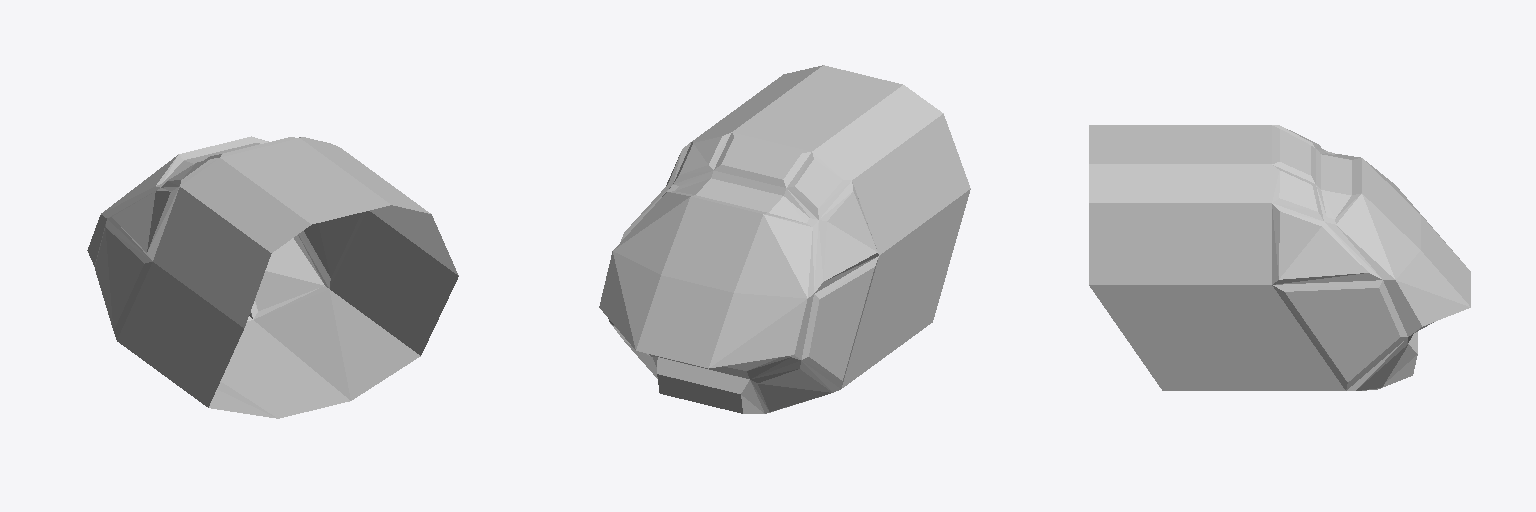
File: Ship_Interior.obj
3 views of the same model, side by side, from view 1: azimuth 30°, elevation 25°; view 2: azimuth 150°, elevation 25°; view 3: azimuth 270°, elevation 25° (orthographic).
Parts seen in each view (by area): view 1: Ship_Interior.obj; view 2: Ship_Interior.obj; view 3: Ship_Interior.obj.
Boxes of the visible parts, x1,y1,x2,y2 form: Ship_Interior.obj: [87, 136, 458, 418]; Ship_Interior.obj: [599, 65, 970, 413]; Ship_Interior.obj: [1089, 125, 1470, 390].
Bounding box in the file's own units: 3.01 × 2.92 × 4.55.